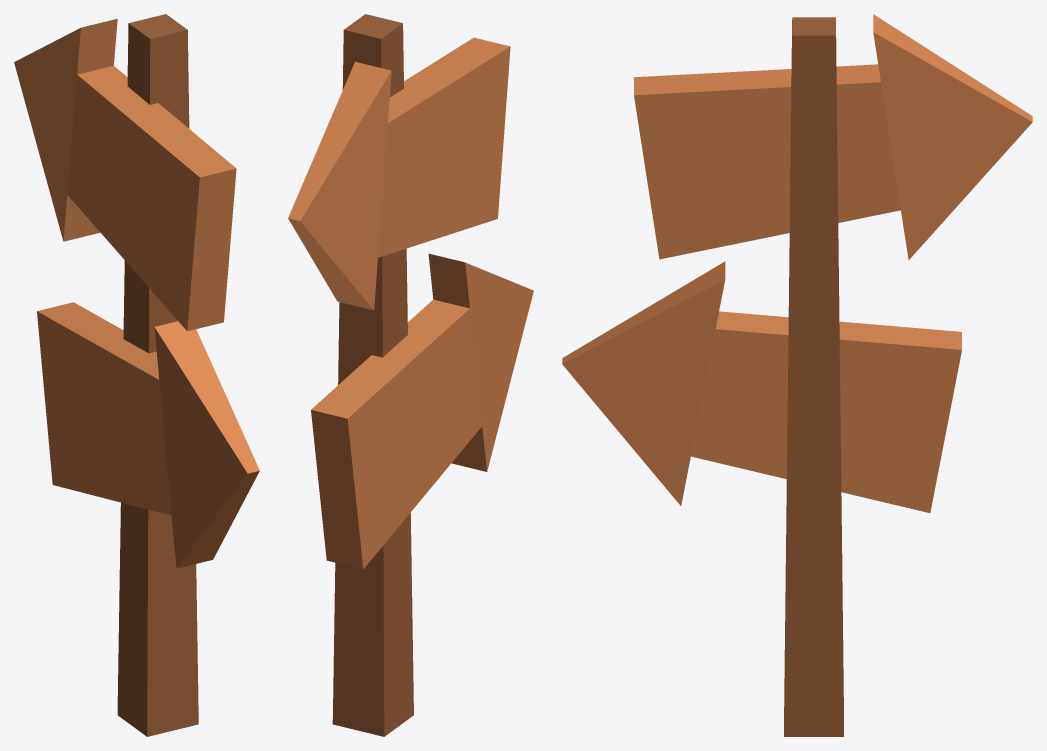
File: arrows.fbx
3 renders of one model, left to right at view 1: azimuth 30°, elevation 25°; view 2: azimuth 150°, elevation 25°; view 3: azimuth 270°, elevation 25°, orthographic.
Visible parts, largest first — view 1: arrowLeft, arrowRight, arrows; view 2: arrowRight, arrowLeft, arrows; view 3: arrowLeft, arrowRight, arrows.
Part boxes in pixels (x1,y1,x2,y2): arrowLeft: (14, 18, 236, 331); arrowRight: (37, 302, 259, 568); arrows: (117, 14, 198, 736); arrowRight: (311, 253, 533, 569); arrowLeft: (288, 37, 510, 310); arrows: (332, 14, 413, 736); arrowLeft: (634, 14, 1032, 259); arrowRight: (562, 261, 961, 512); arrows: (784, 17, 843, 736).
Size of the model in its own units: 0.9984 by 9 by 5.5.
